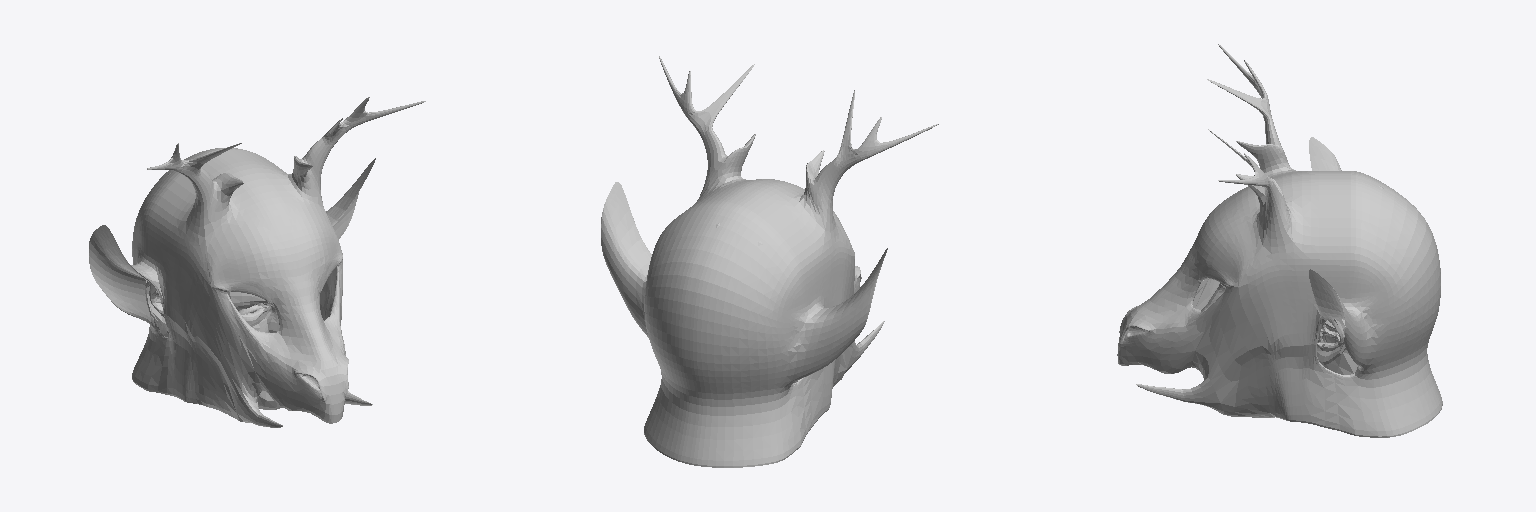
Rendered from 03a_neutral_mask.obj.
3 views of the same model, side by side, from view 1: azimuth 30°, elevation 25°; view 2: azimuth 150°, elevation 25°; view 3: azimuth 270°, elevation 25° (orthographic).
Parts seen in each view (by area): view 1: M4HelmetStag2, head; view 2: M4HelmetStag2; view 3: M4HelmetStag2, head.
Boxes of the visible parts, x1,y1,x2,y2 form: M4HelmetStag2: [89, 97, 425, 427]; head: [145, 173, 282, 409]; M4HelmetStag2: [601, 56, 938, 467]; M4HelmetStag2: [1117, 44, 1442, 437]; head: [1201, 186, 1383, 374].
Bounding box in the file's own units: 0.1347 × 0.1398 × 0.1348.